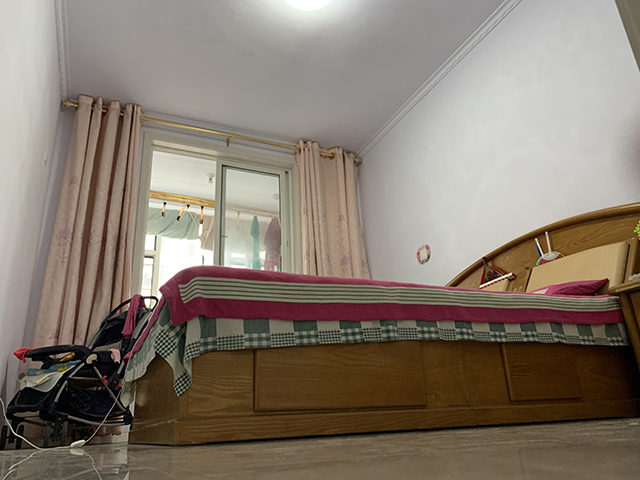bed: (127, 200, 640, 446)
wire: (1, 383, 127, 451)
